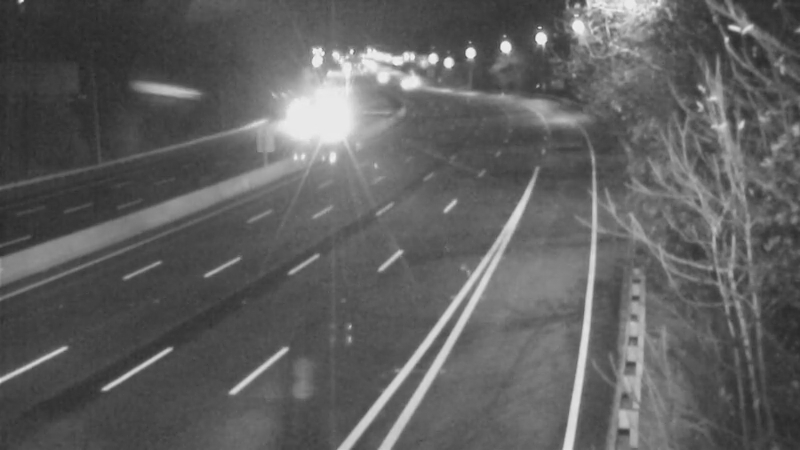vehicle: (378, 54, 428, 104), (307, 100, 357, 150), (264, 97, 314, 147)
